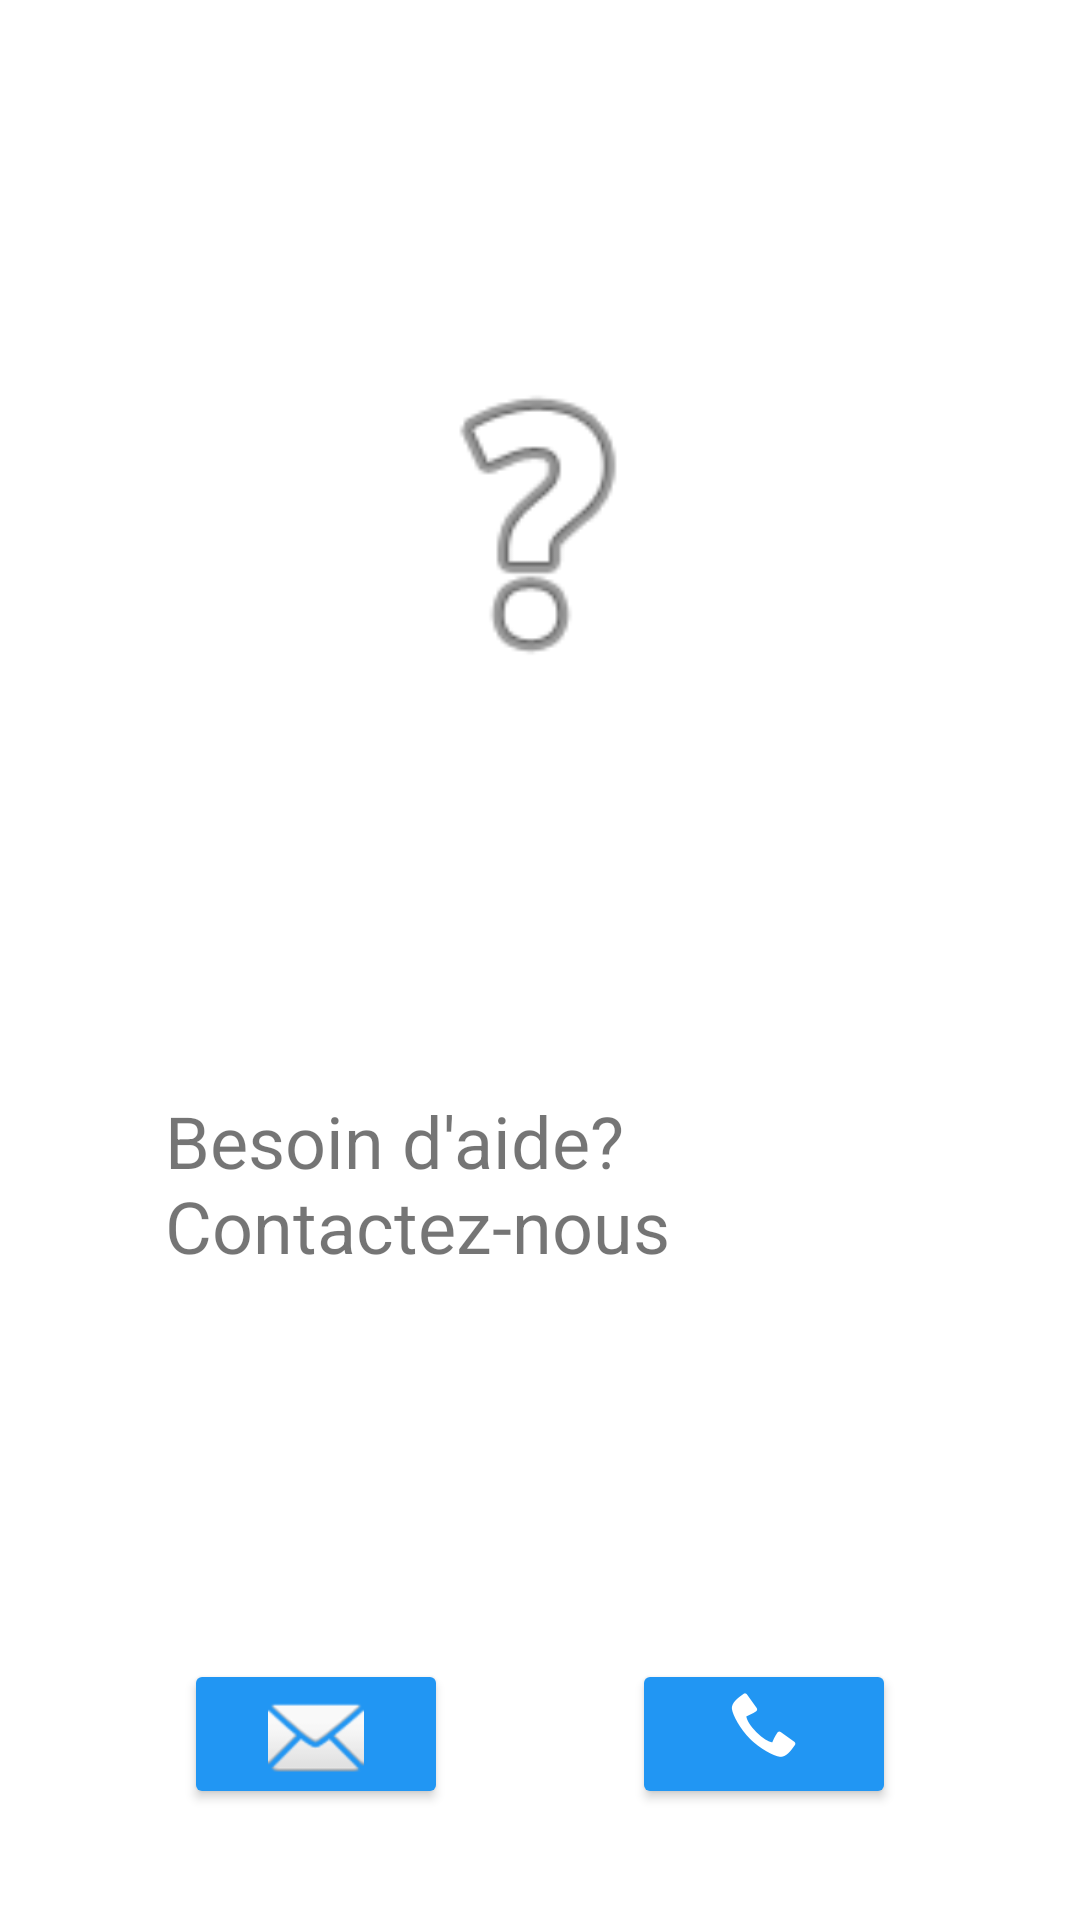

Screen size 1080×1920. Icon name, then its box in pixels as [x1, y1, x2, y2]:
help: [460, 398, 616, 652]
